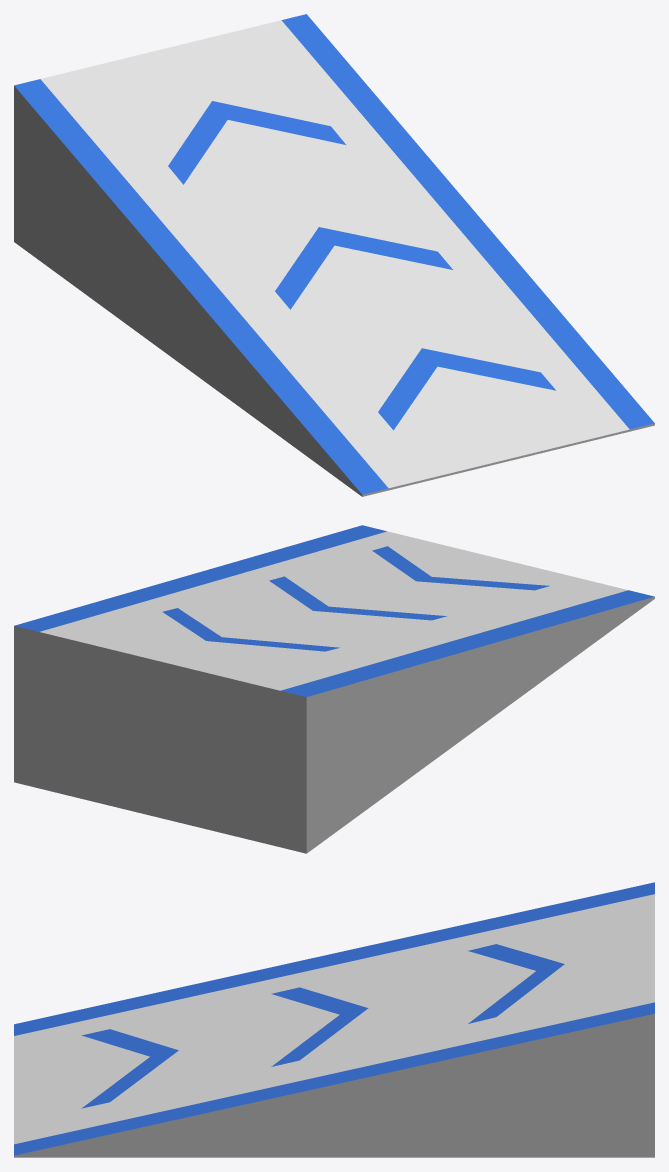
The model's file is Uzun_Hz_Rampas 1.fbx.
3 renders of one model, top to bottom at view 1: azimuth 30°, elevation 25°; view 2: azimuth 150°, elevation 25°; view 3: azimuth 270°, elevation 25°, orthographic. The views are drawn at different scales.
Parts seen in each view (by area): view 1: Cube.010; view 2: Cube.010; view 3: Cube.010.
Part boxes in pixels (x1,y1,x2,y2): Cube.010: (14,14,654,496); Cube.010: (14,525,654,853); Cube.010: (14,882,654,1157).
Size of the model in its own units: 71.85 by 36.73 by 148.
